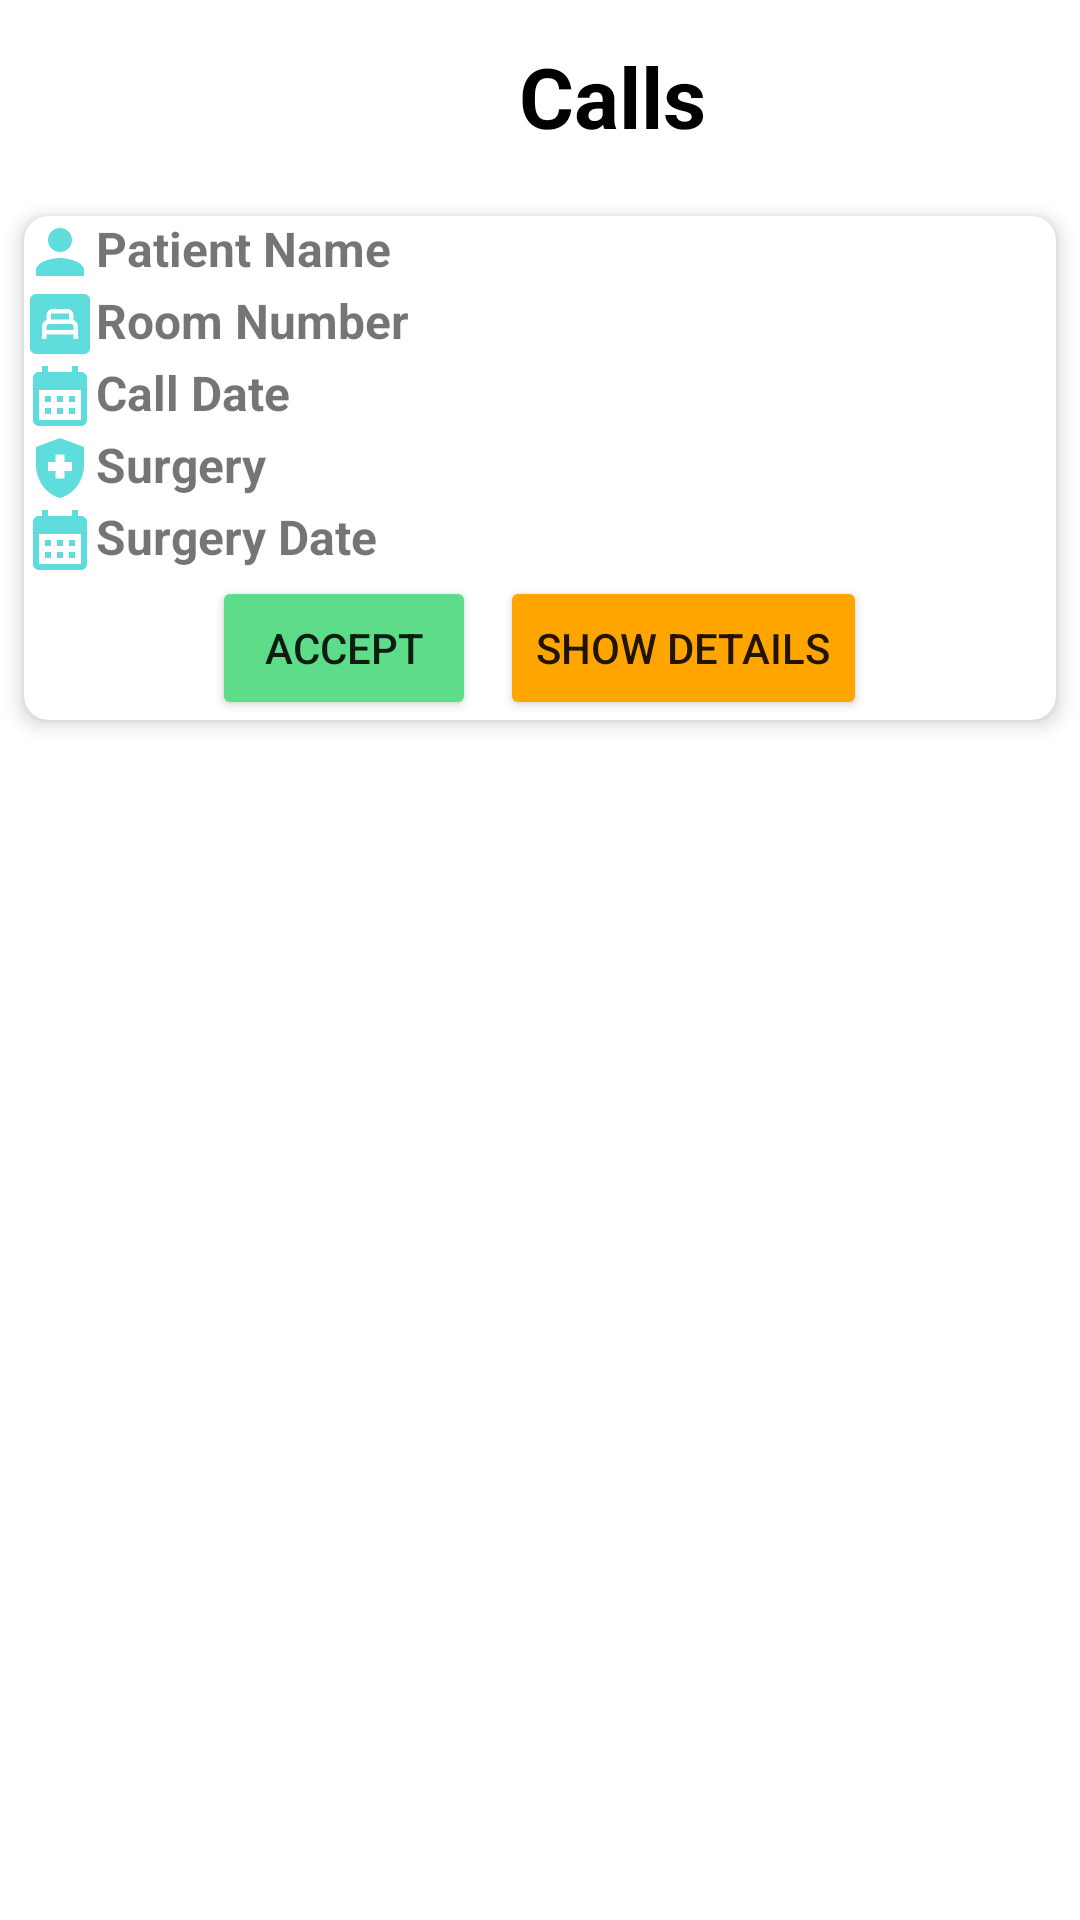

Screen size 1080 x 1920. Icon name, then its box in pixels as BBox(x1, y1, x2, y2):
Patient Room Icon: BBox(30, 294, 90, 354)
Surgey Name Icon: BBox(36, 438, 84, 498)
